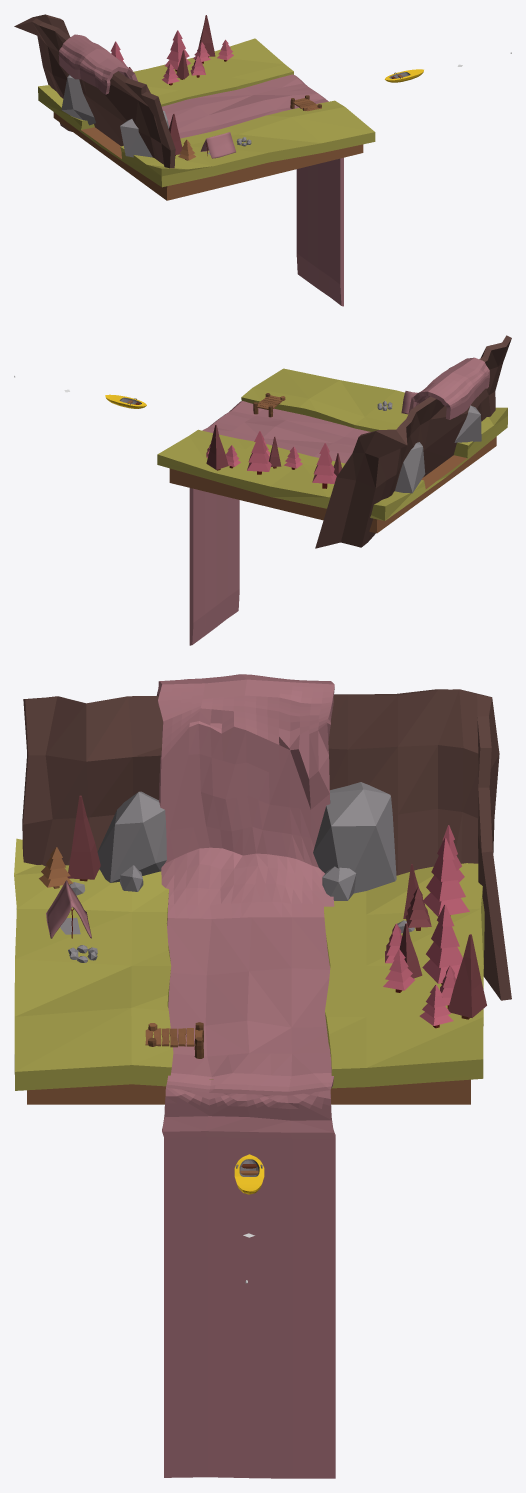
File: waterfallV5.1.glb
3 views of the same model, one above another, from view 1: azimuth 30°, elevation 25°; view 2: azimuth 150°, elevation 25°; view 3: azimuth 270°, elevation 25° (orthographic). The views are drawn at different scales.
Visible parts, largest first — view 1: Flor, River, Cliff, Roc 2.001, Roc 2, Plan, Arbre 2.008, Arbre 1.002; view 2: Flor, River, Cliff, Roc 2.001, Roc 2, Arbre 2.007, Arbre 2.008, Arbre 1.002, Boat; view 3: River, Flor, Cliff, Roc 2.001, Roc 2, Arbre 2.007, Arbre 1.002, Arbre 2.008, Arbre 1.003, Plan, Roc.
Part boxes in pixels (x1=…): Flor: x1=38, y1=38, x2=375, y2=200; River: x1=58, y1=34, x2=343, y2=306; Cliff: x1=14, y1=14, x2=175, y2=168; Roc 2.001: x1=61, y1=75, x2=95, y2=125; Roc 2: x1=120, y1=111, x2=169, y2=157; Plan: x1=200, y1=132, x2=235, y2=158; Arbre 2.008: x1=165, y1=30, x2=190, y2=71; Arbre 1.002: x1=198, y1=15, x2=215, y2=57; Flor: x1=157, y1=368, x2=507, y2=533; River: x1=189, y1=357, x2=489, y2=645; Cliff: x1=315, y1=335, x2=511, y2=548; Roc 2.001: x1=395, y1=442, x2=425, y2=493; Roc 2: x1=454, y1=405, x2=481, y2=442; Arbre 2.007: x1=312, y1=443, x2=336, y2=488; Arbre 2.008: x1=247, y1=431, x2=271, y2=474; Arbre 1.002: x1=206, y1=425, x2=228, y2=470; Boat: x1=105, y1=394, x2=146, y2=408; River: x1=156, y1=674, x2=335, y2=1478; Flor: x1=14, y1=838, x2=484, y2=1104; Cliff: x1=22, y1=689, x2=511, y2=1000; Roc 2.001: x1=313, y1=782, x2=396, y2=893; Roc 2: x1=97, y1=791, x2=166, y2=882; Arbre 2.007: x1=423, y1=838, x2=469, y2=916; Arbre 1.002: x1=448, y1=934, x2=486, y2=1019; Arbre 2.008: x1=422, y1=904, x2=462, y2=984; Arbre 1.003: x1=67, y1=795, x2=100, y2=881; Plan: x1=46, y1=880, x2=91, y2=938; Roc: x1=322, y1=866, x2=356, y2=900.
Size of the model in its own units: 17.28 by 11.3 by 8.75.
